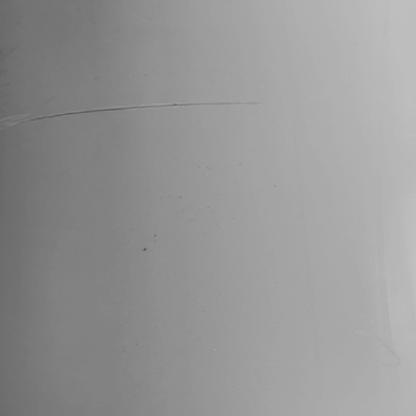sunshang: (5, 98, 255, 132)
